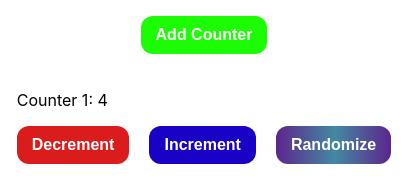
Scenario: Counter Component › increments the counter when Increment button is clicked with predefined value
Expected: the text "Counter 1: 4" is shown, x1=17 y1=90 x2=108 y2=110
Click the button "Increment".
click(203, 145)  # box x1=149 y1=126 x2=256 y2=164
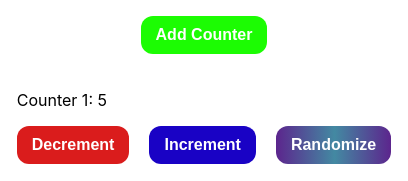
Result: the text "Counter 1: 5" is shown at x1=17 y1=90 x2=107 y2=110
